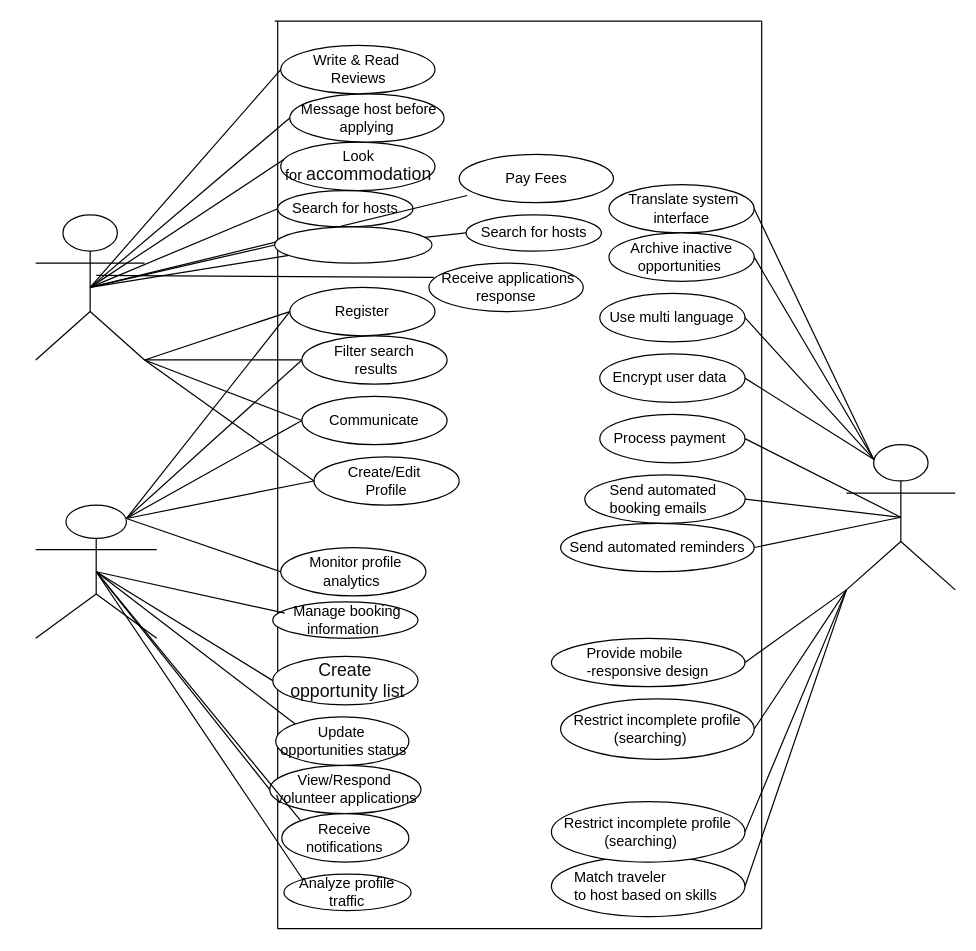
The diagram is 976 pixels wide and 951 high, and some of its shapes have lost their labels. The shapes that lost their labels are listed below. From the top down, each one's centre as x and y in pixels, then its label:
At point (352, 244): "Search/Filter accommodations".
At point (89, 287): "Travelers&Volunteers".
At point (900, 516): "System".
At point (95, 571): "Hosts".
